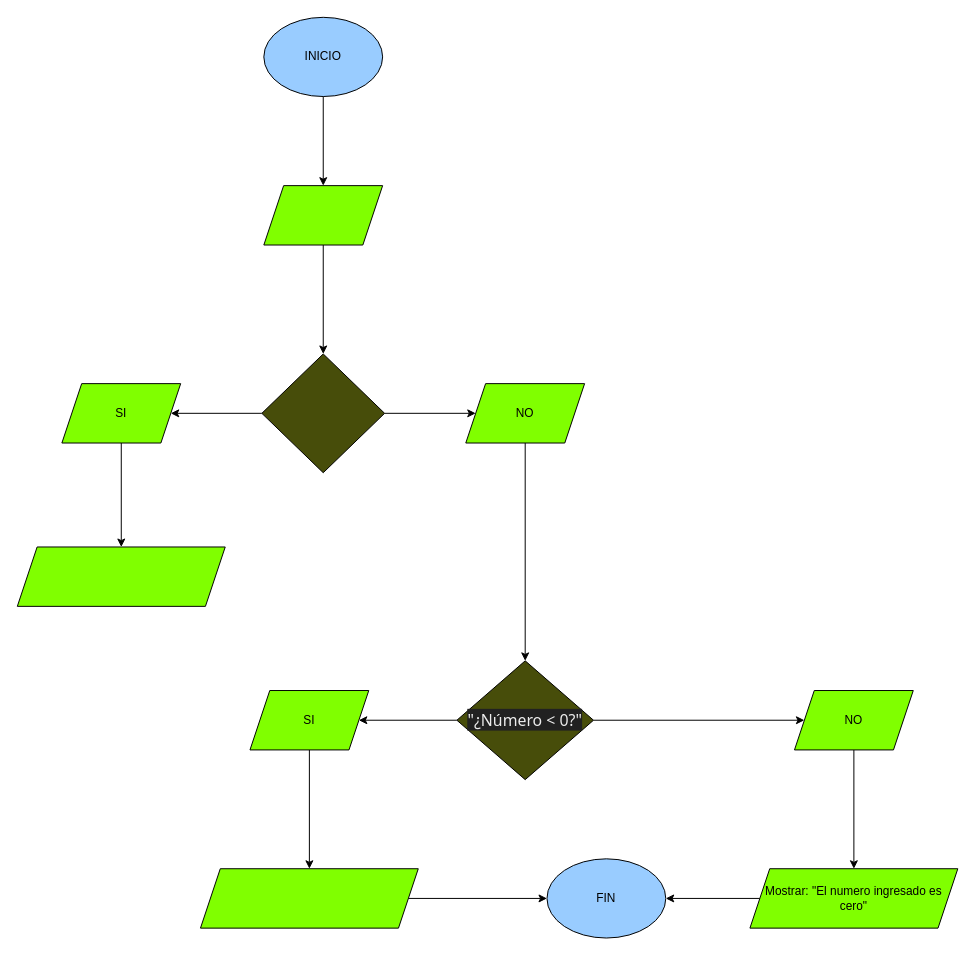
The diagram is 975 pixels wide and 955 high, and some of its shapes have lost their labels. Here are the shapes that lost their labels. From the top down, the box of each, then its label:
(263, 185, 383, 245): "Solicitar numero"
(261, 353, 385, 473): "¿Número > 0?"
(16, 546, 225, 606): "Mostrar: El numero ingresado es positivo"
(199, 868, 418, 928): Mostrar: "El numero ingresado es negativo"
